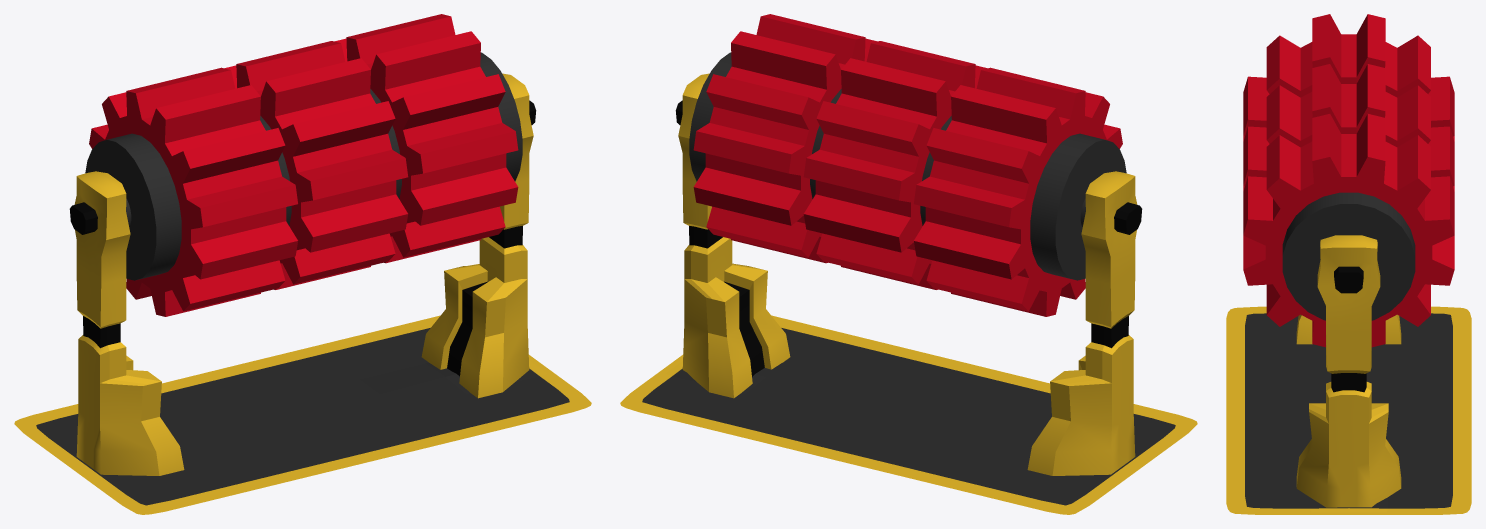
Rendered from Shredder_top.fbx.
3 renders of one model, left to right at view 1: azimuth 30°, elevation 25°; view 2: azimuth 150°, elevation 25°; view 3: azimuth 270°, elevation 25°, orthographic. The views are drawn at different scales.
Visible parts, largest first — view 1: Gear.006, Plane.002, Gear.007; view 2: Gear.006, Plane.002, Gear.007; view 3: Gear.006, Plane.002, Gear.007.
Boxes of the visible parts, box(x1,y1,x2,y2) form: Gear.006: box(85, 14, 522, 316); Plane.002: box(14, 315, 591, 514); Gear.007: box(69, 73, 536, 475); Gear.006: box(689, 14, 1126, 316); Plane.002: box(620, 315, 1197, 514); Gear.007: box(675, 73, 1142, 475); Gear.006: box(1243, 14, 1454, 347); Plane.002: box(1226, 306, 1471, 514); Gear.007: box(1296, 235, 1401, 507).
Size of the model in its own units: 539 by 397 by 269.
